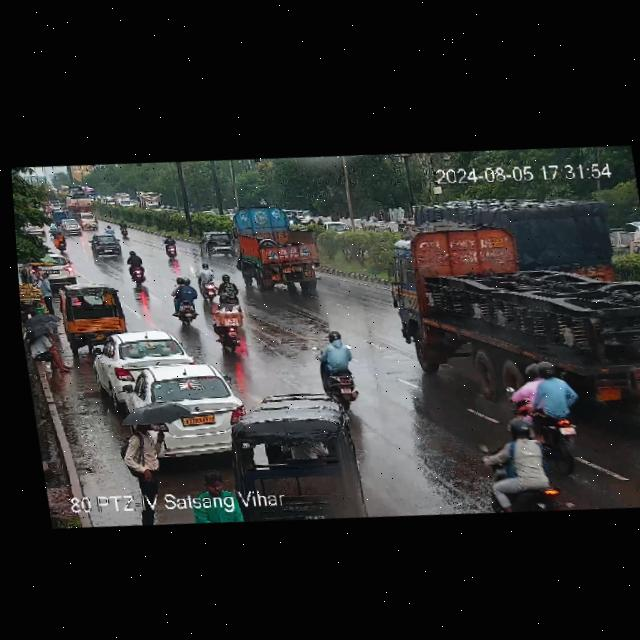car: (231, 396, 373, 527), (126, 354, 247, 459), (90, 325, 197, 400), (58, 279, 135, 345), (22, 249, 77, 286), (83, 230, 127, 259), (200, 227, 239, 256), (55, 215, 85, 236), (75, 210, 102, 230), (53, 210, 67, 226)
motorcycle: (482, 413, 560, 515), (508, 355, 584, 444), (317, 325, 368, 406), (209, 294, 251, 352), (164, 276, 205, 329), (193, 261, 222, 302), (124, 250, 154, 288), (212, 271, 239, 301), (160, 234, 187, 260), (118, 218, 128, 237), (102, 224, 114, 237)
person: (126, 421, 164, 494), (26, 328, 74, 376), (28, 267, 60, 309), (197, 470, 238, 496)
truck: (382, 196, 640, 416), (416, 188, 626, 298), (230, 201, 334, 297), (135, 187, 163, 212), (63, 189, 94, 211)
